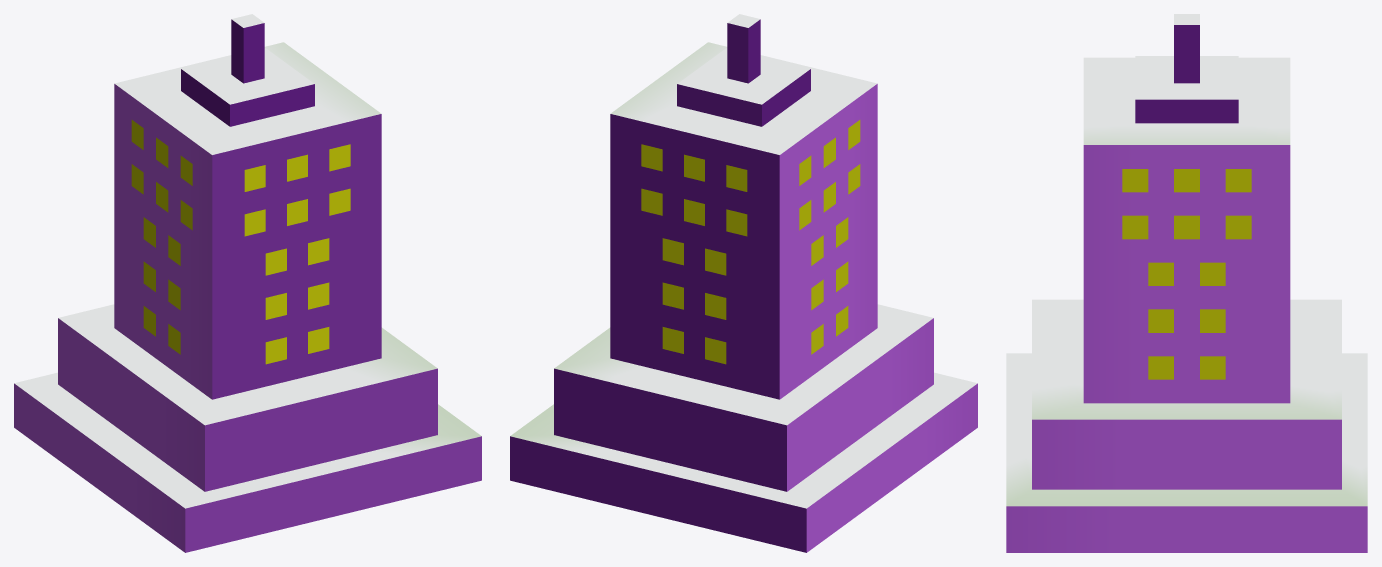
Rendered from HQ.OrangeStar.PurpleLightning.Snow.glb.
3 renders of one model, left to right at view 1: azimuth 30°, elevation 25°; view 2: azimuth 150°, elevation 25°; view 3: azimuth 270°, elevation 25°, orthographic. The views are drawn at different scales.
Visible parts, largest first — view 1: HQ.OrangeStar.PurpleLightning.Snow; view 2: HQ.OrangeStar.PurpleLightning.Snow; view 3: HQ.OrangeStar.PurpleLightning.Snow.
Part boxes in pixels (x1,y1,x2,y2): HQ.OrangeStar.PurpleLightning.Snow: (14,14,481,552); HQ.OrangeStar.PurpleLightning.Snow: (510,14,977,552); HQ.OrangeStar.PurpleLightning.Snow: (1006,14,1367,552).
Size of the model in its own units: 2.8 by 3.91 by 2.8.
Materials: 2 (1 with a texture image).
